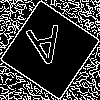A: (25, 25, 67, 76)
